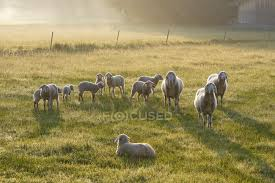sheep: (114, 134, 158, 165), (162, 71, 188, 114), (194, 84, 216, 127), (207, 71, 230, 109), (104, 71, 128, 98), (76, 76, 104, 98), (41, 83, 64, 105), (132, 81, 156, 98), (29, 89, 50, 108), (60, 84, 80, 103), (139, 73, 163, 87), (94, 74, 112, 89)
